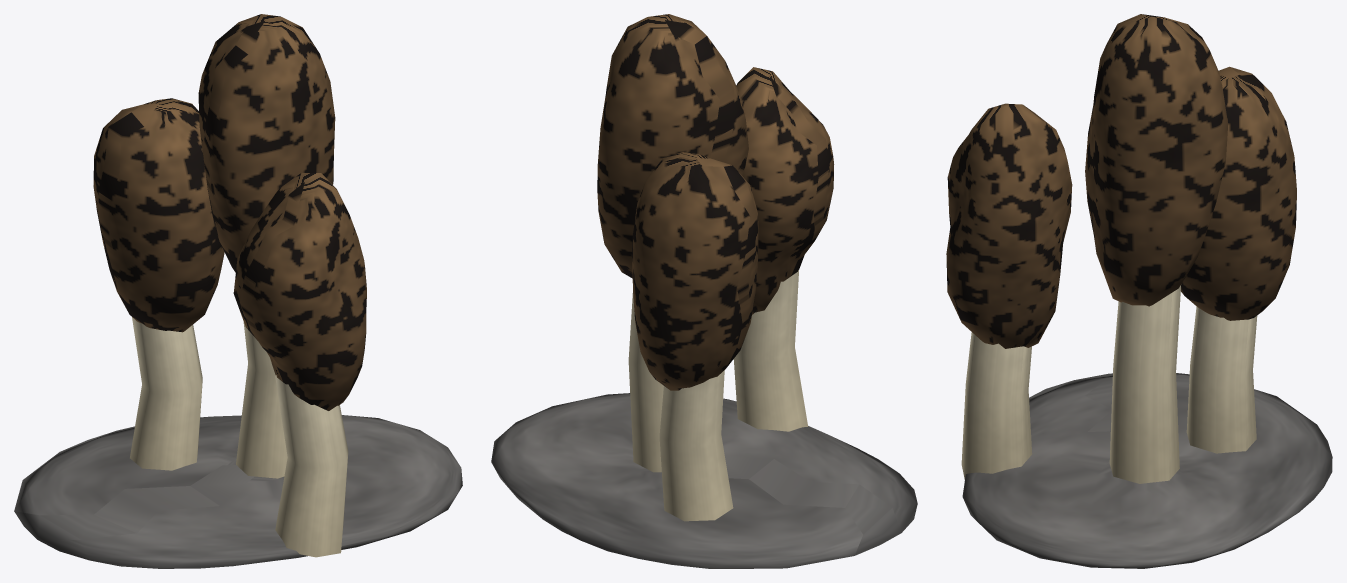
The model's file is ashmorel.glb.
3 views of the same model, side by side, from view 1: azimuth 30°, elevation 25°; view 2: azimuth 150°, elevation 25°; view 3: azimuth 270°, elevation 25° (orthographic). The views are drawn at different scales.
Visible parts, largest first — view 1: ashmorel; view 2: ashmorel; view 3: ashmorel.
Boxes of the visible parts, box(x1,y1,x2,y2) form: ashmorel: box(14, 14, 462, 568); ashmorel: box(491, 14, 917, 568); ashmorel: box(946, 14, 1332, 568).
Bounding box in the file's own units: 0.1595 × 0.1774 × 0.1308.
1 material, 1 textured.
